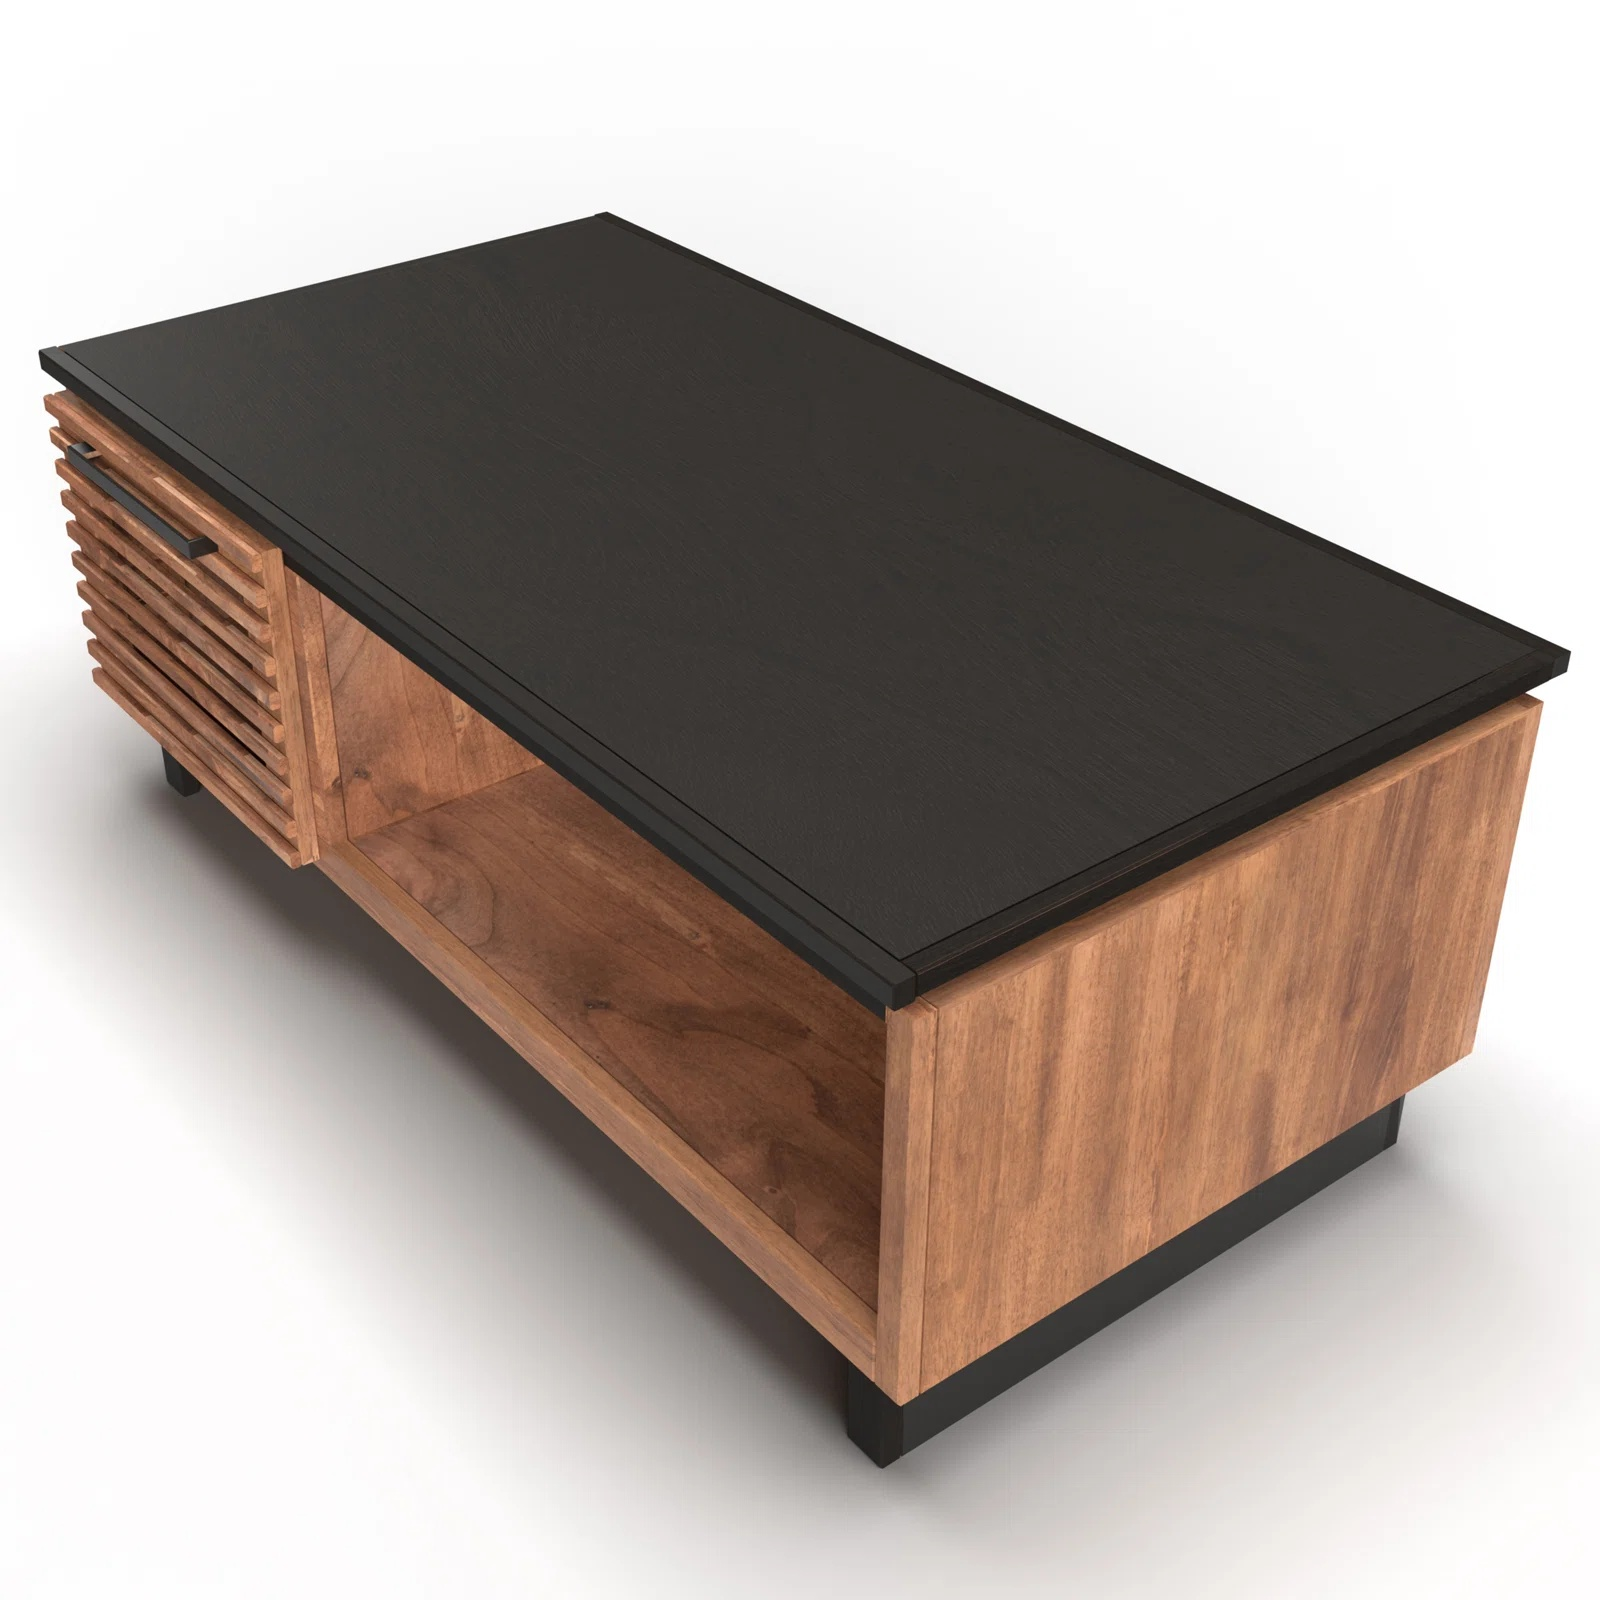obstacle: (42, 215, 1565, 1464)
